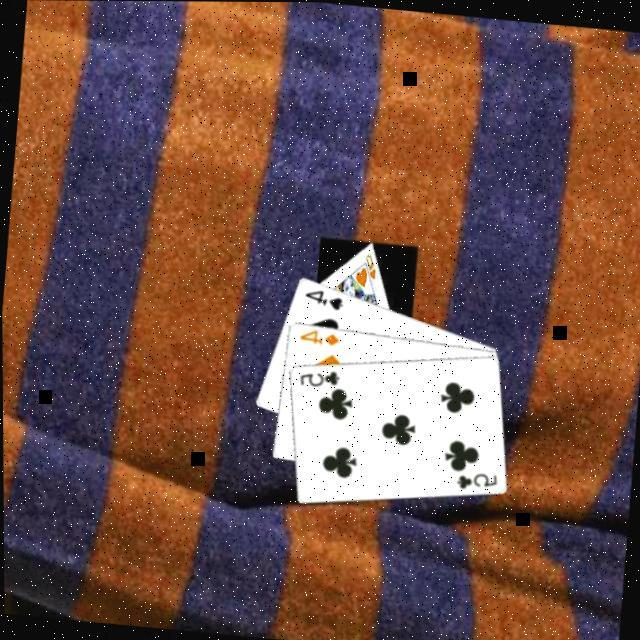4D: (296, 326, 342, 350)
4S: (301, 285, 347, 314)
5C: (296, 364, 344, 392), (454, 468, 502, 494)
